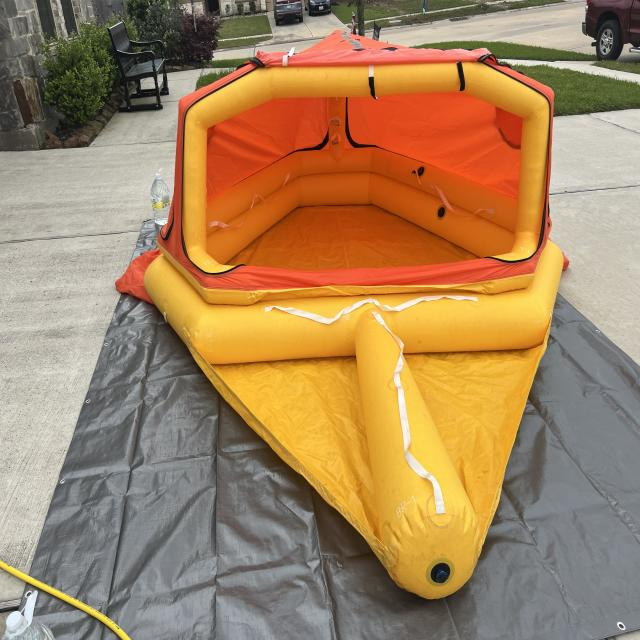Multi-person_life_raft: (114, 32, 567, 601)
